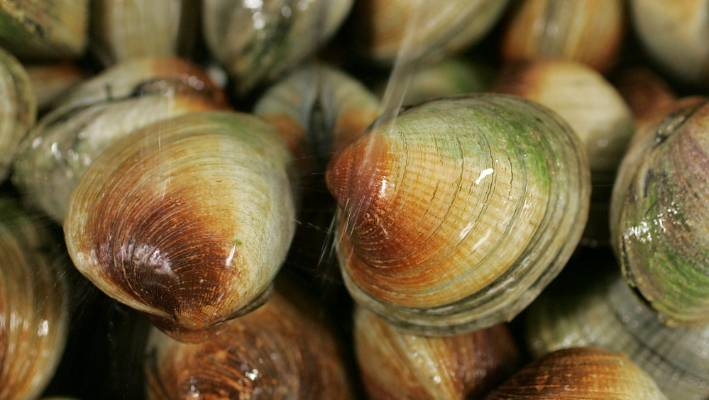cockle: (323, 91, 595, 334), (60, 108, 302, 327), (12, 55, 226, 217), (608, 79, 709, 330), (135, 295, 353, 400), (248, 59, 388, 188), (348, 300, 514, 400), (188, 1, 362, 92), (510, 54, 632, 173), (1, 197, 73, 396), (362, 1, 519, 69), (481, 344, 667, 400), (12, 1, 96, 62)
